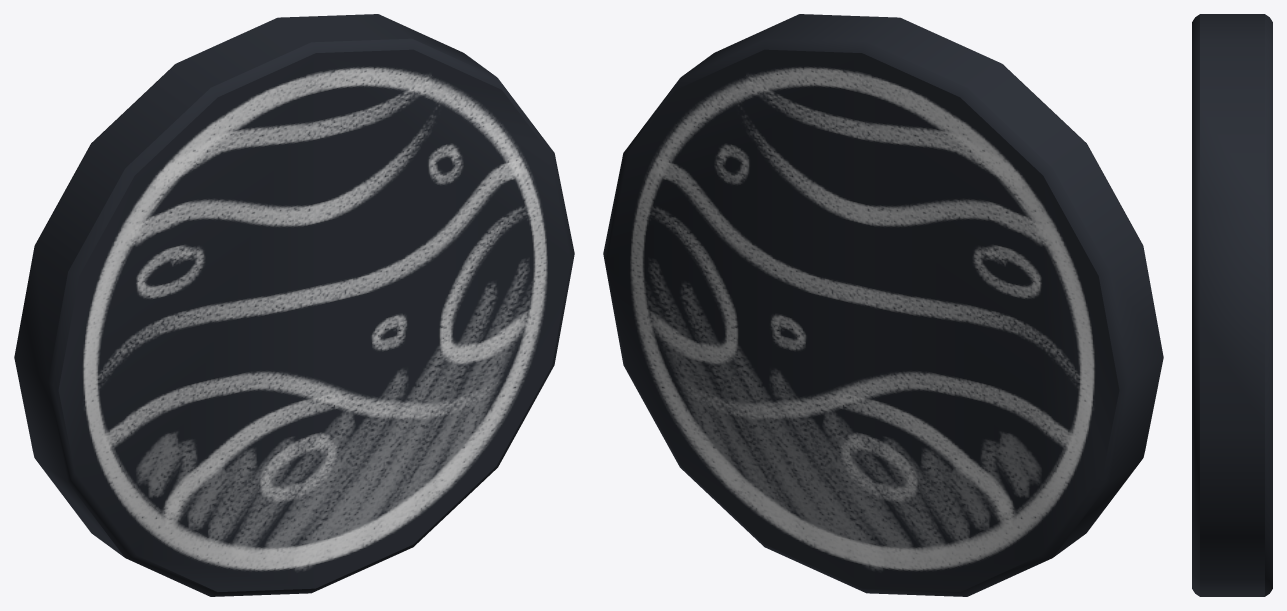
Rendered from Planet2.fbx.
3 renders of one model, left to right at view 1: azimuth 30°, elevation 25°; view 2: azimuth 150°, elevation 25°; view 3: azimuth 270°, elevation 25°, orthographic. The views are drawn at different scales.
Visible parts, largest first — view 1: m_Planet2; view 2: m_Planet2; view 3: m_Planet2.
Boxes of the visible parts, x1,y1,x2,y2 form: m_Planet2: (14,14,574,596); m_Planet2: (603,14,1163,596); m_Planet2: (1192,14,1272,596).
Bounding box in the file's own units: 0.721 × 0.721 × 0.1.
